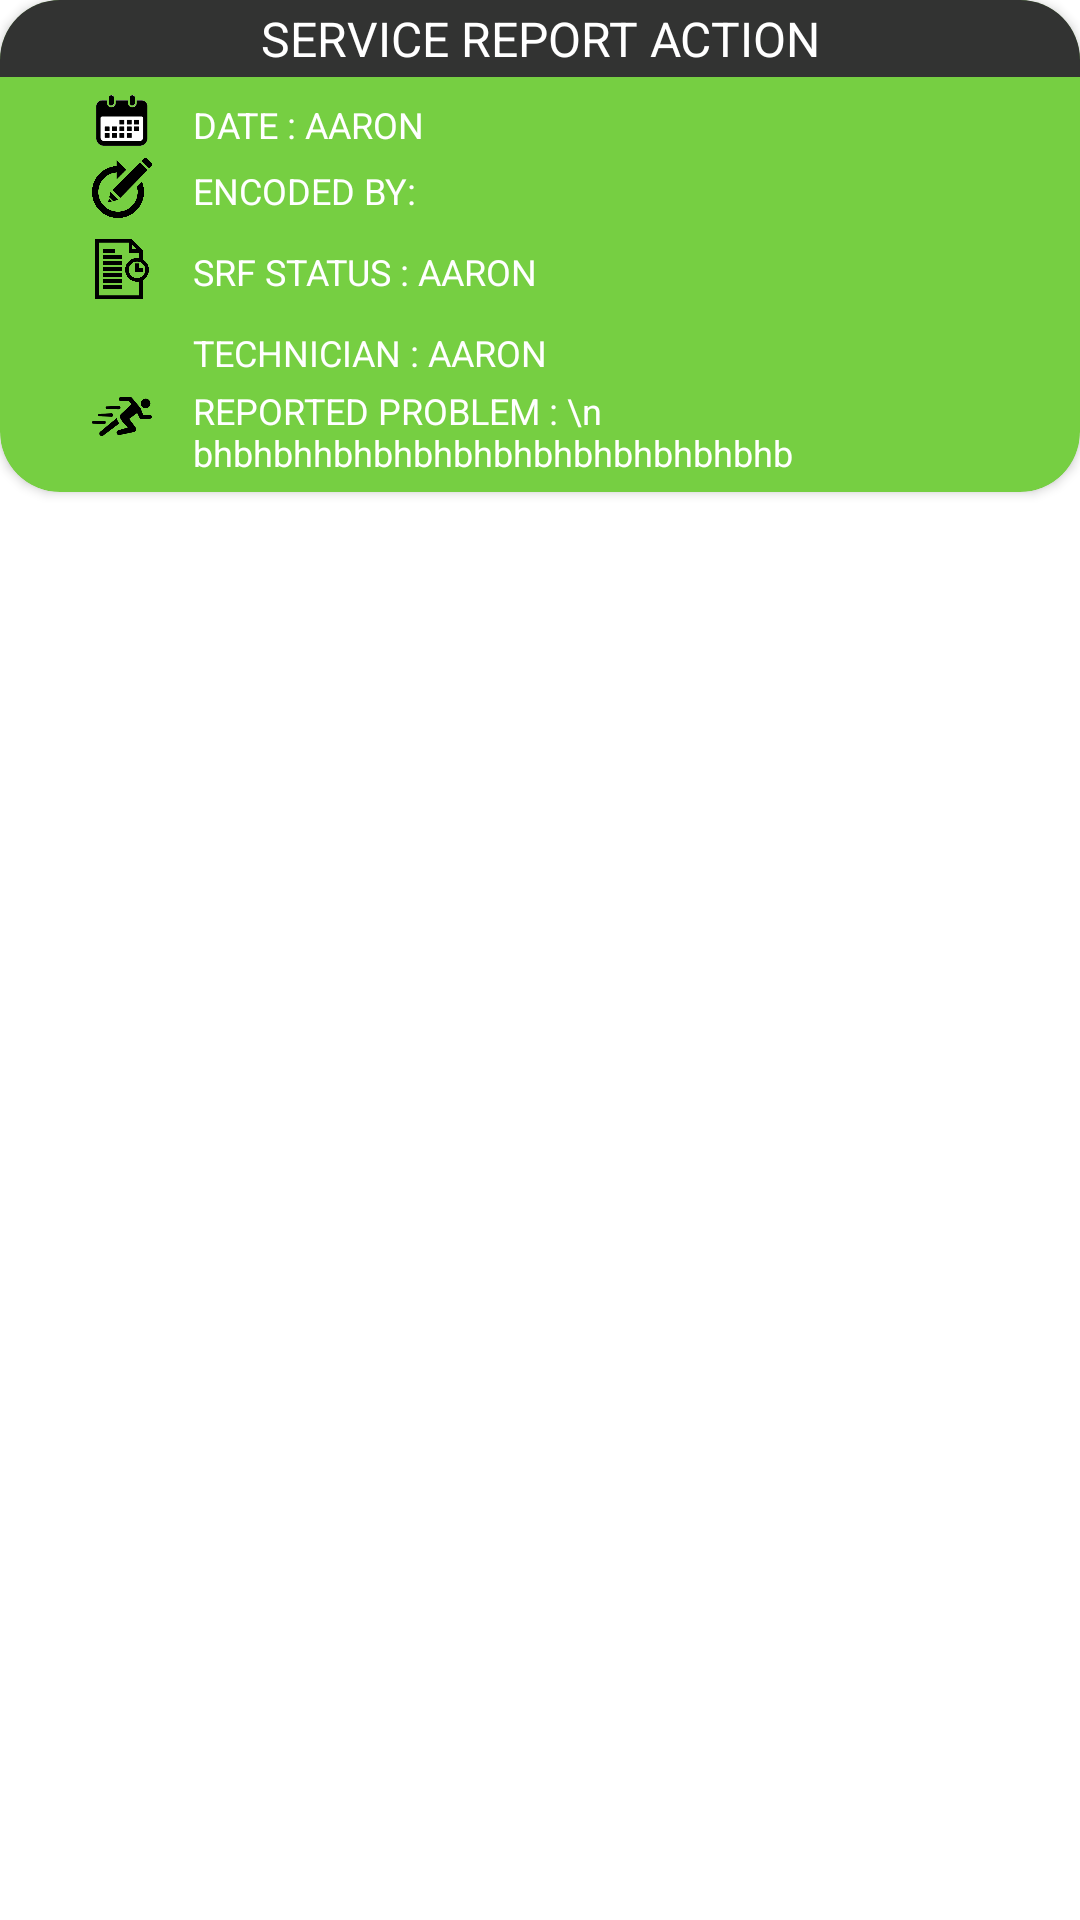

Icons on this 1080 × 1920 Android screen, each with its box as (x1, y1, x2, y2):
update: (92, 158, 152, 218)
